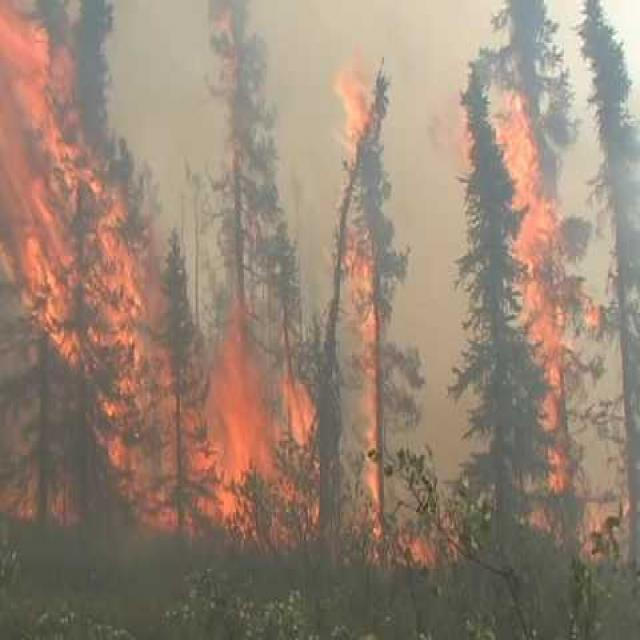Fire: (0, 50, 89, 347), (201, 299, 284, 510), (505, 105, 559, 261)
